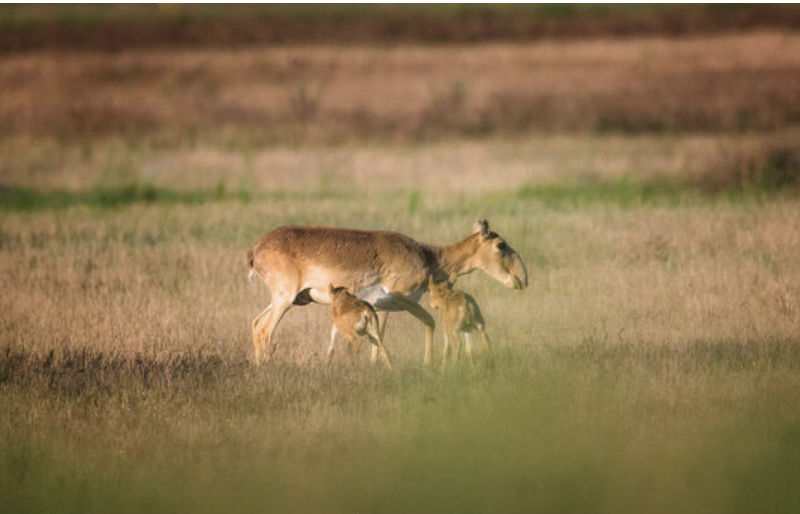saiga: (223, 182, 528, 369)
